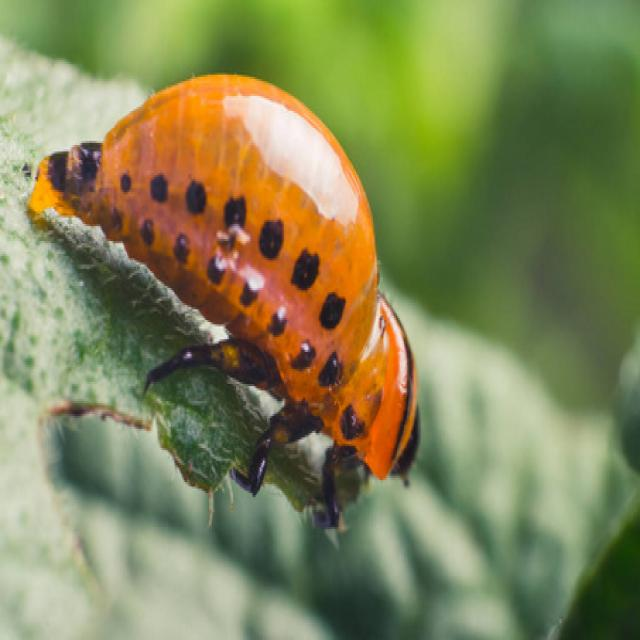ShuCaiHuaBanChong-Larva-: (72, 74, 468, 542)
